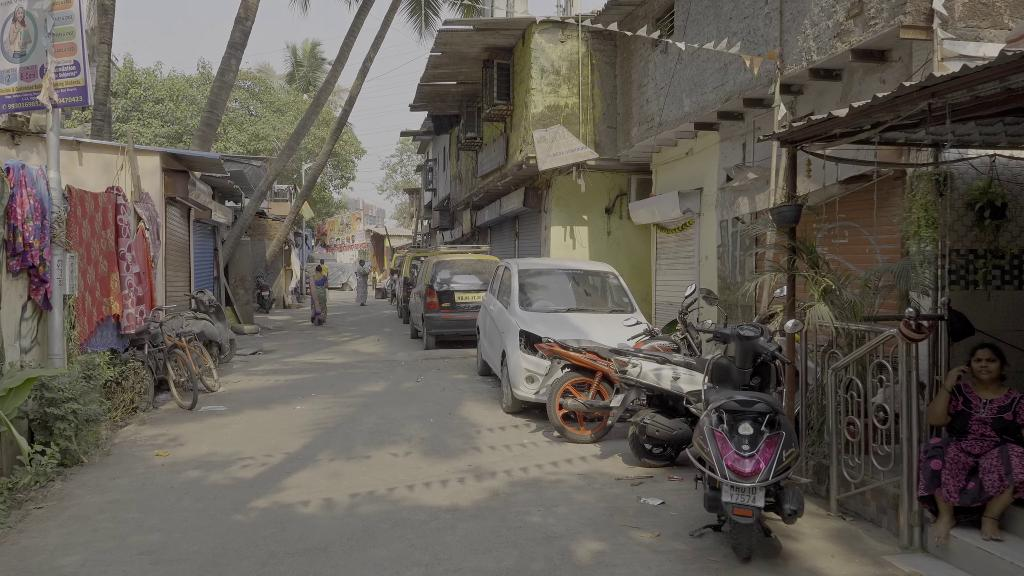garbage: (637, 492, 668, 509), (154, 448, 173, 459)
